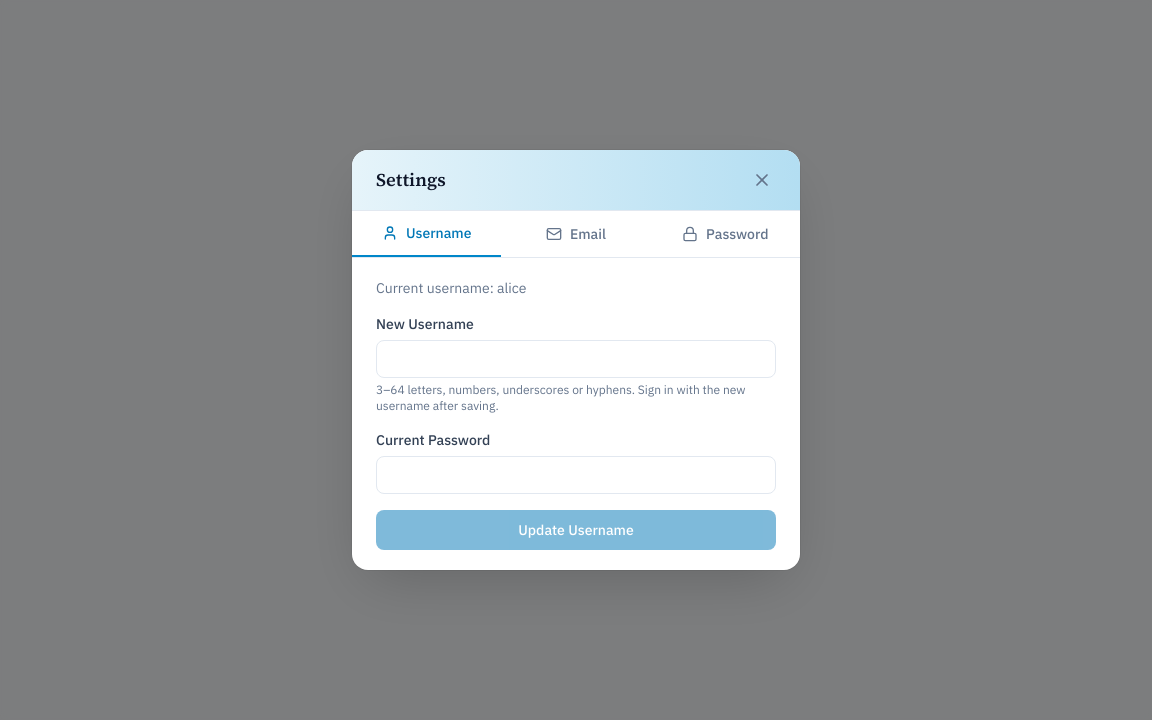
Test case: username settings › shows name conflicts without changing the current identity or token
The image size is (1152, 720).
In the field labelled "New Username": (576, 359) [376, 340, 776, 378], type "alice-renamed"
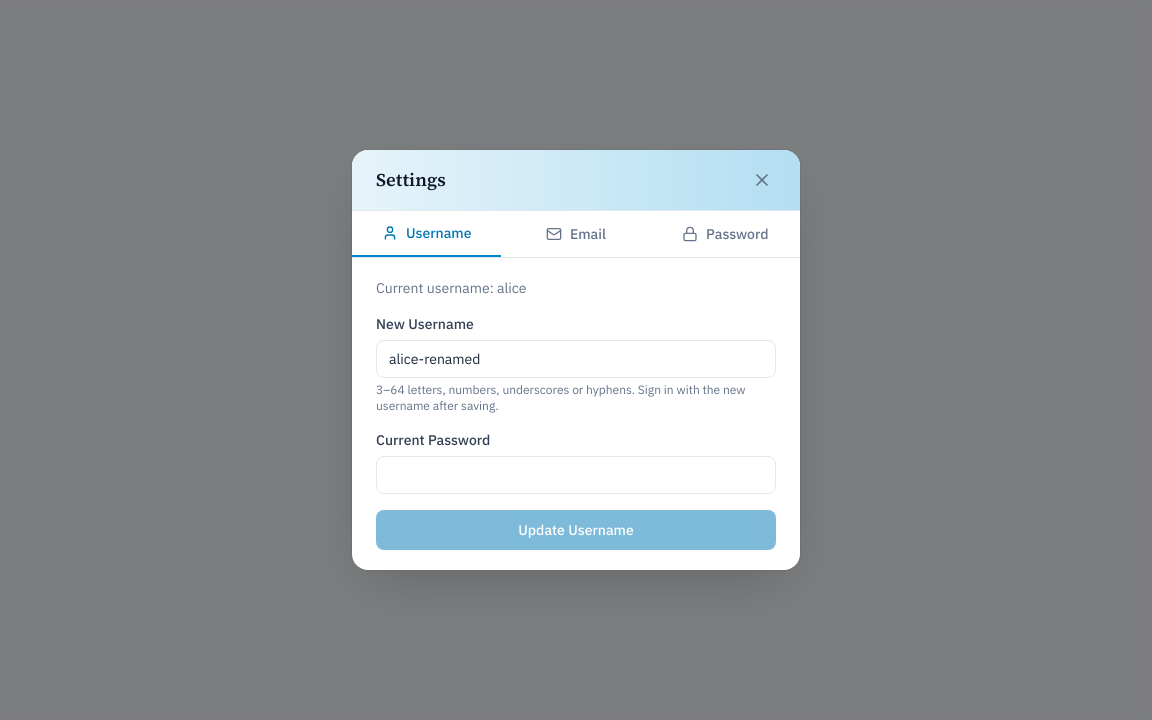
In the password field labelled "Current Password": (576, 475) [376, 456, 776, 494], type "password123"
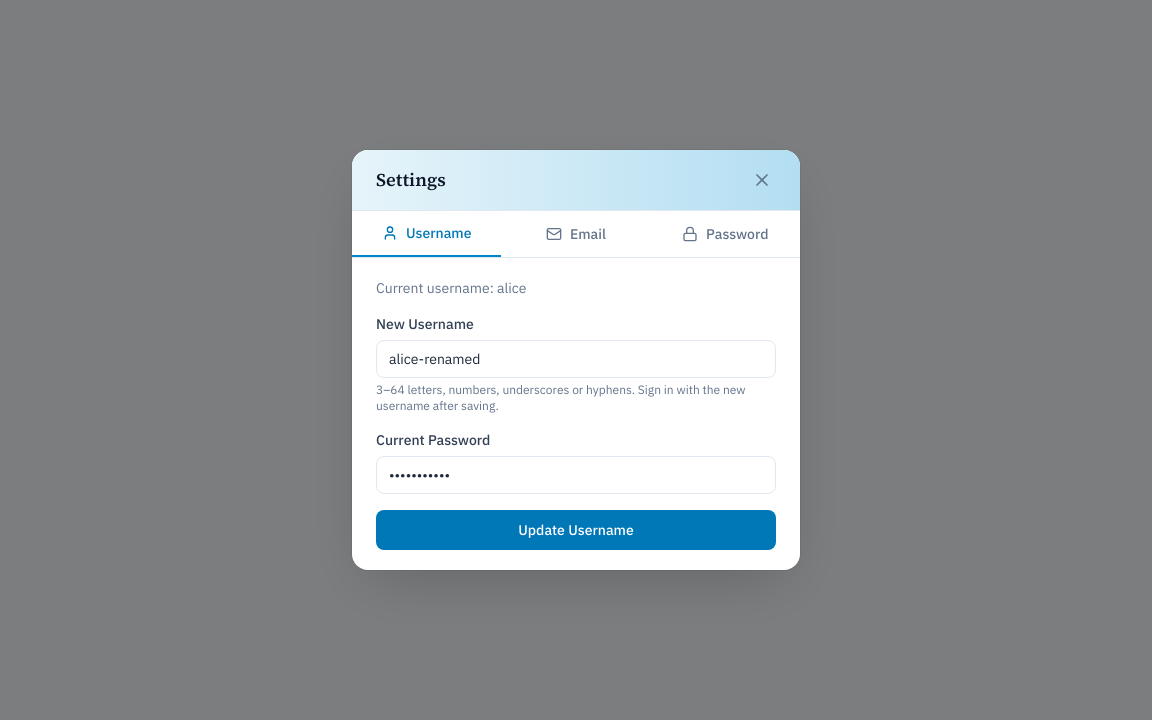
Click the button "Update Username": (576, 530) [376, 510, 776, 550]
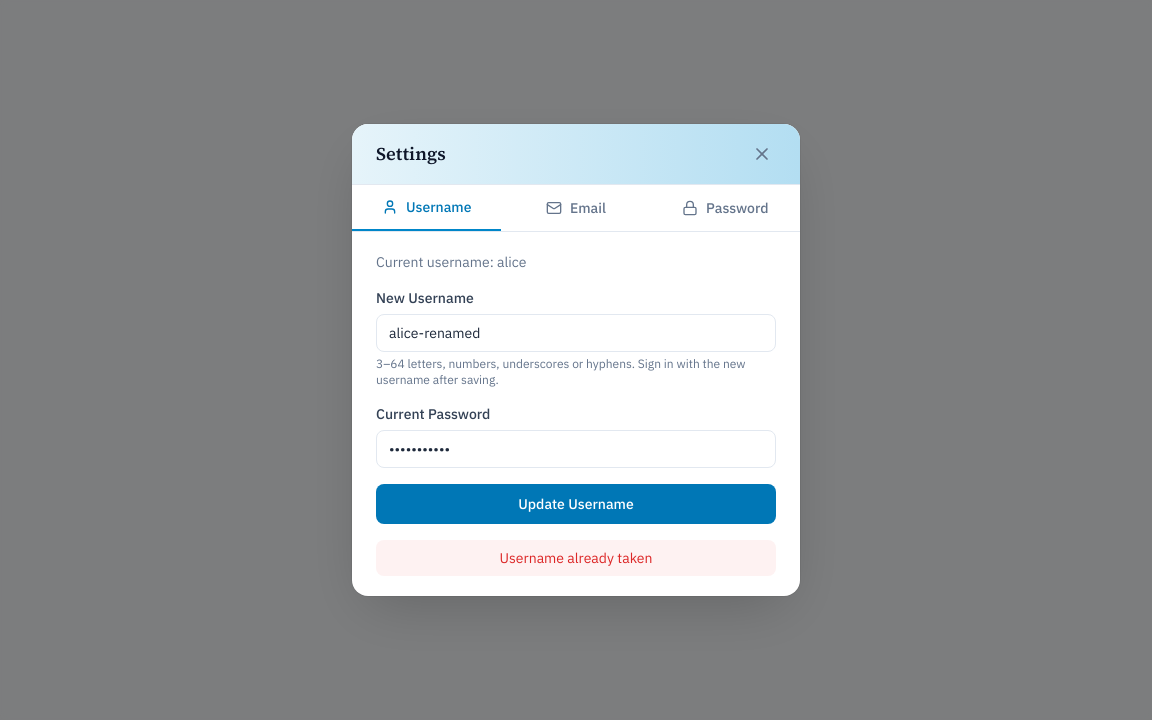
Expected: the text "Username already taken" is shown, [376, 540, 776, 576]
